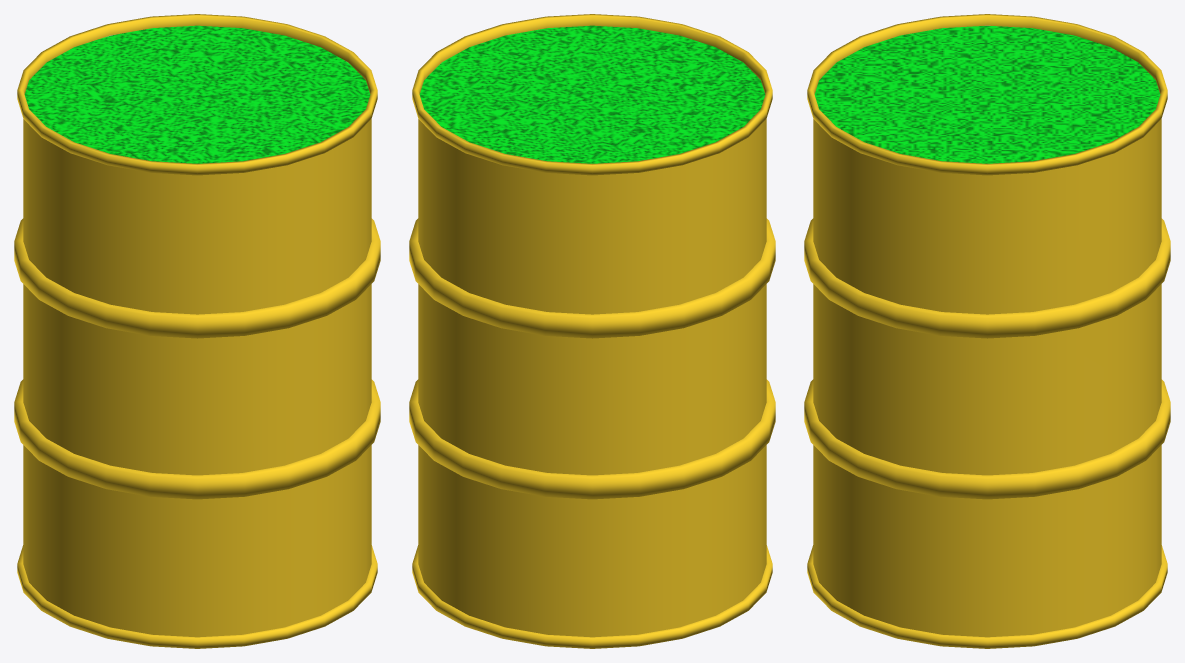
Rendered from VatOfAcid.glb.
3 views of the same model, side by side, from view 1: azimuth 30°, elevation 25°; view 2: azimuth 150°, elevation 25°; view 3: azimuth 270°, elevation 25° (orthographic).
Visible parts, largest first — view 1: VatOfAcid; view 2: VatOfAcid; view 3: VatOfAcid.
Part boxes in pixels (x1=…): VatOfAcid: x1=14, y1=14, x2=380, y2=648; VatOfAcid: x1=409, y1=14, x2=775, y2=648; VatOfAcid: x1=804, y1=14, x2=1170, y2=648.
Size of what is drawn, in the model's own units: 0.756 by 1.1 by 0.756.
Materials: 2 (2 with a texture image).
